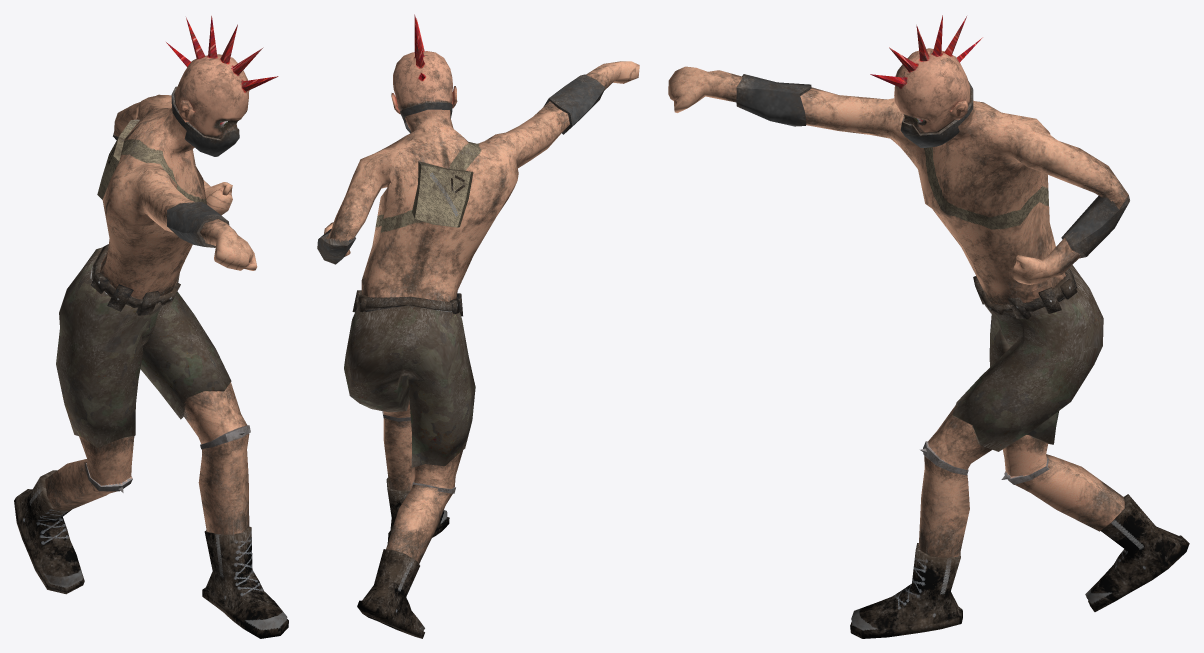
Rendered from Anim_ataque_d1_npc2.0023.obj.
3 views of the same model, side by side, from view 1: azimuth 30°, elevation 25°; view 2: azimuth 150°, elevation 25°; view 3: azimuth 270°, elevation 25° (orthographic). The views are drawn at different scales.
Parts seen in each view (by area): view 1: polySurface1; view 2: polySurface1; view 3: polySurface1.
Part boxes in pixels (left/top/right/bottom): polySurface1: left=14, top=15, right=288, bottom=638; polySurface1: left=317, top=14, right=639, bottom=638; polySurface1: left=668, top=15, right=1189, bottom=638.
Size of the model in its own units: 2.93 by 9.41 by 7.07.
2 materials, 2 textured.
